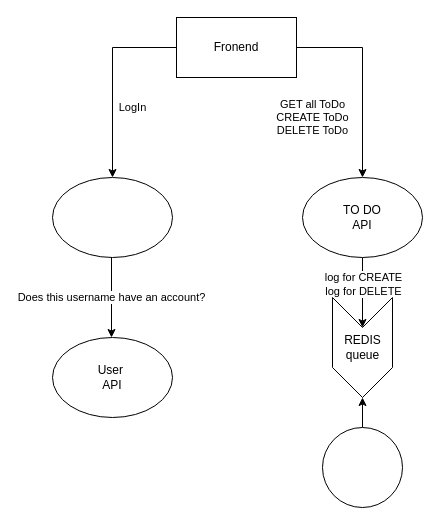
This 440x525 diagram has some shape labels left out. Here are the shapes that lost their labels. From the top down, the centre of each, then its label:
point 112,217: Authentication API
point 362,467: Log message processor
